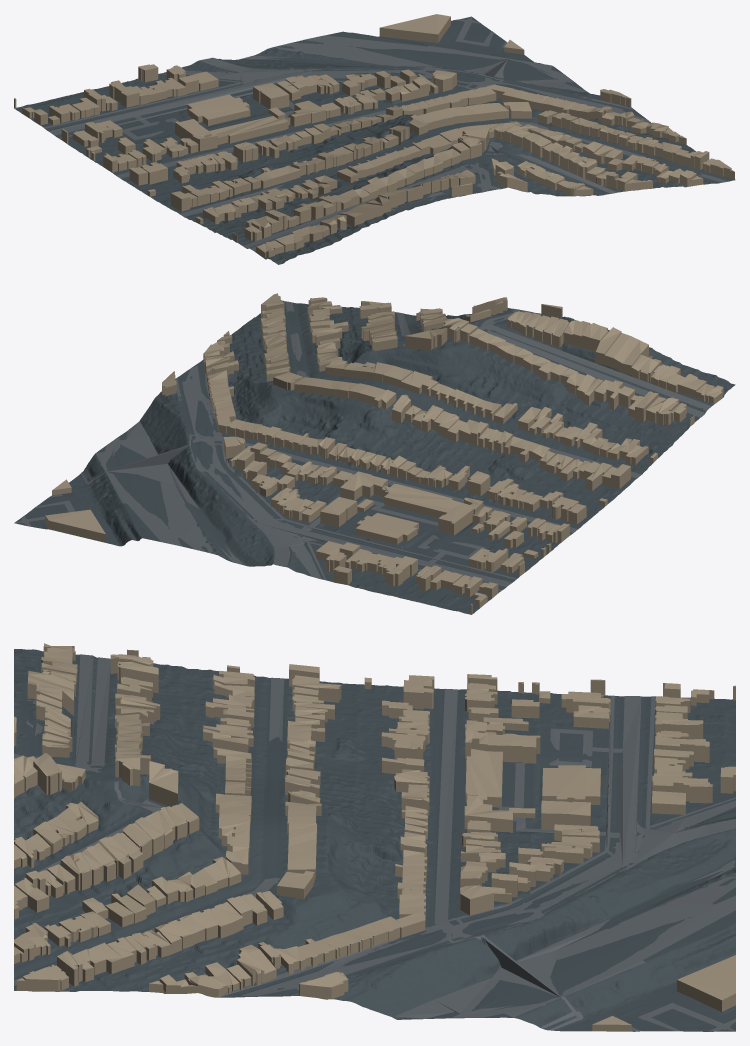
File: epsg26910-1427-10870.lod0.glb
3 renders of one model, top to bottom at view 1: azimuth 30°, elevation 25°; view 2: azimuth 150°, elevation 25°; view 3: azimuth 270°, elevation 25°, orthographic. The views are drawn at different scales.
Visible parts, largest first — view 1: epsg26910-1427-10870-lod0; view 2: epsg26910-1427-10870-lod0; view 3: epsg26910-1427-10870-lod0.
Boxes of the visible parts, <box> form: epsg26910-1427-10870-lod0: <box>14,14,735,264</box>; epsg26910-1427-10870-lod0: <box>14,293,735,614</box>; epsg26910-1427-10870-lod0: <box>14,643,735,1031</box>.
Size of the model in its own units: 384 by 74.4 by 384.
